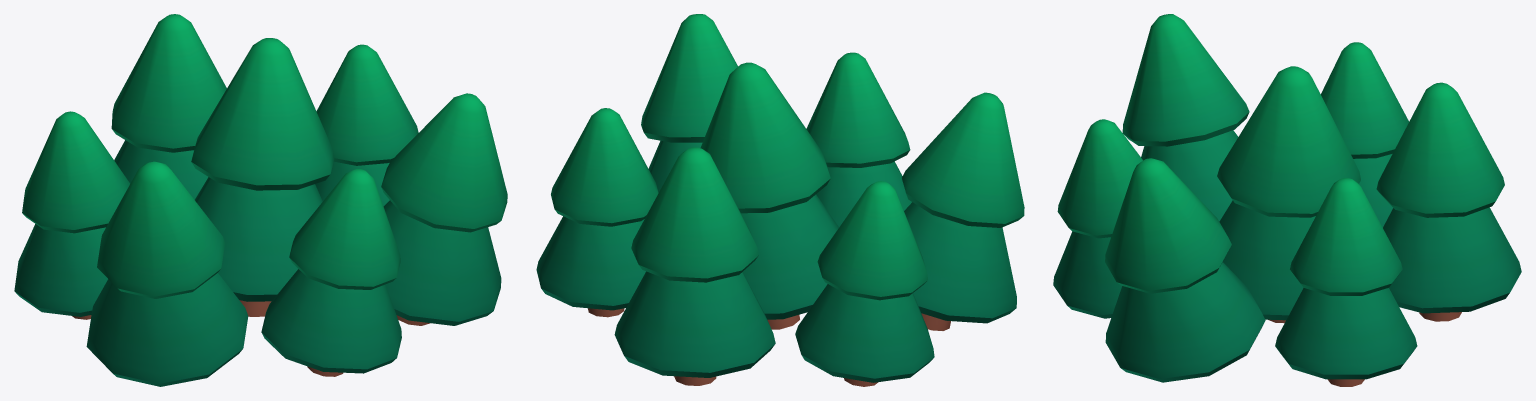
Rendered from trees_b_large.glb.
3 renders of one model, left to right at view 1: azimuth 30°, elevation 25°; view 2: azimuth 150°, elevation 25°; view 3: azimuth 270°, elevation 25°, orthographic. The views are drawn at different scales.
Parts seen in each view (by area): view 1: trees_B_large; view 2: trees_B_large; view 3: trees_B_large.
Boxes of the visible parts, left/top/right/bottom form: trees_B_large: left=14, top=14, right=507, bottom=386; trees_B_large: left=536, top=14, right=1024, bottom=386; trees_B_large: left=1053, top=14, right=1521, bottom=386.
Bounding box in the file's own units: 1.85 × 1.17 × 1.93.
Materials: 1 (1 with a texture image).
